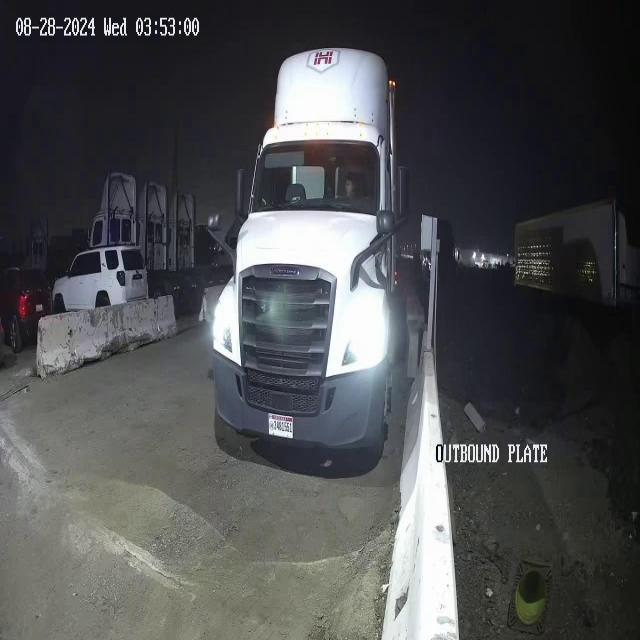TRUCK_OUT: (209, 46, 409, 476)
